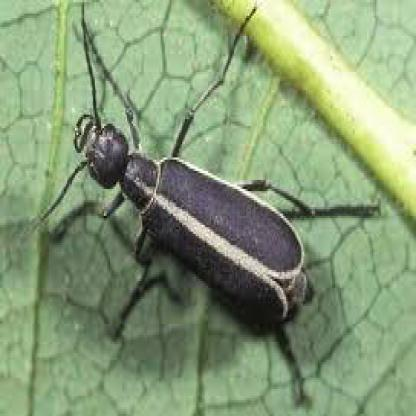blister beetle: (38, 8, 379, 336)
